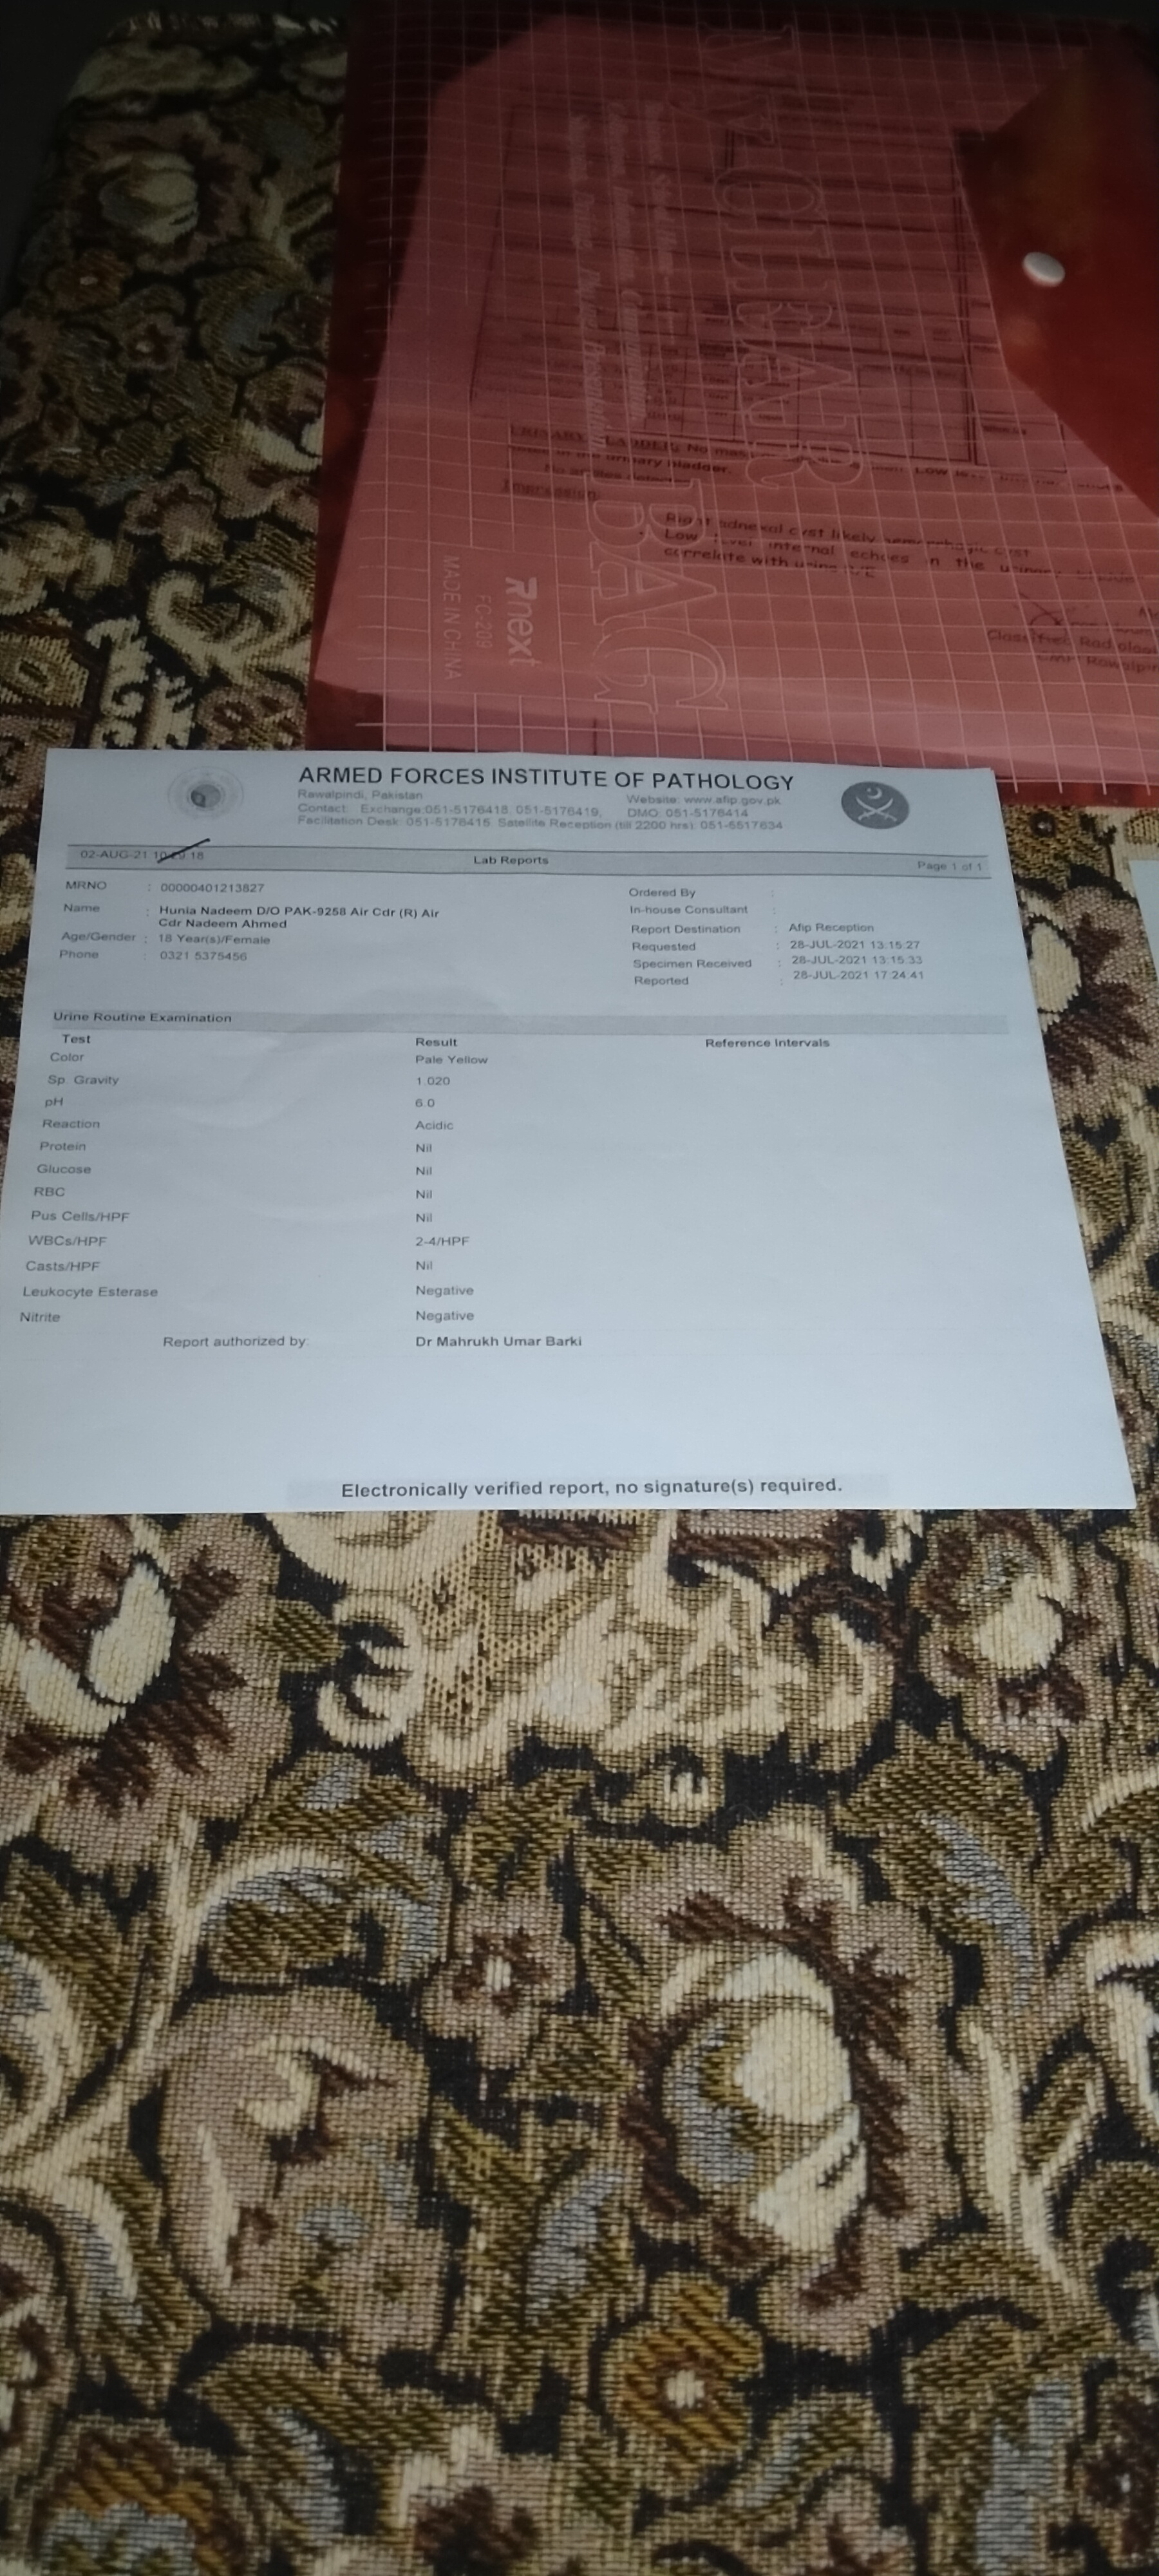report: (25, 989, 1038, 1401)
